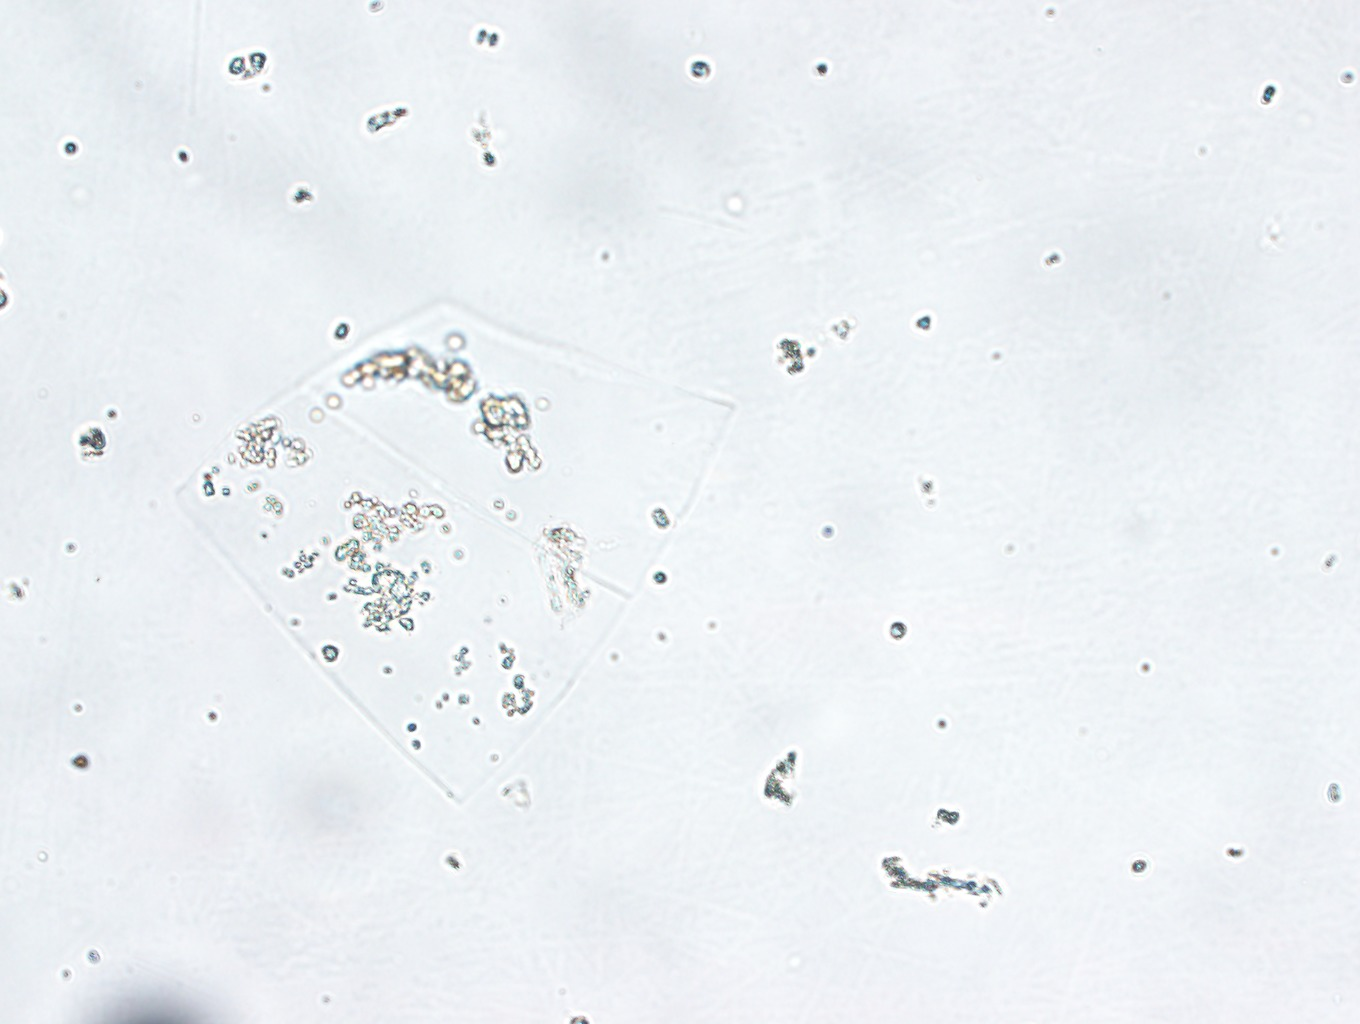helicotheca: (172, 299, 738, 817)
